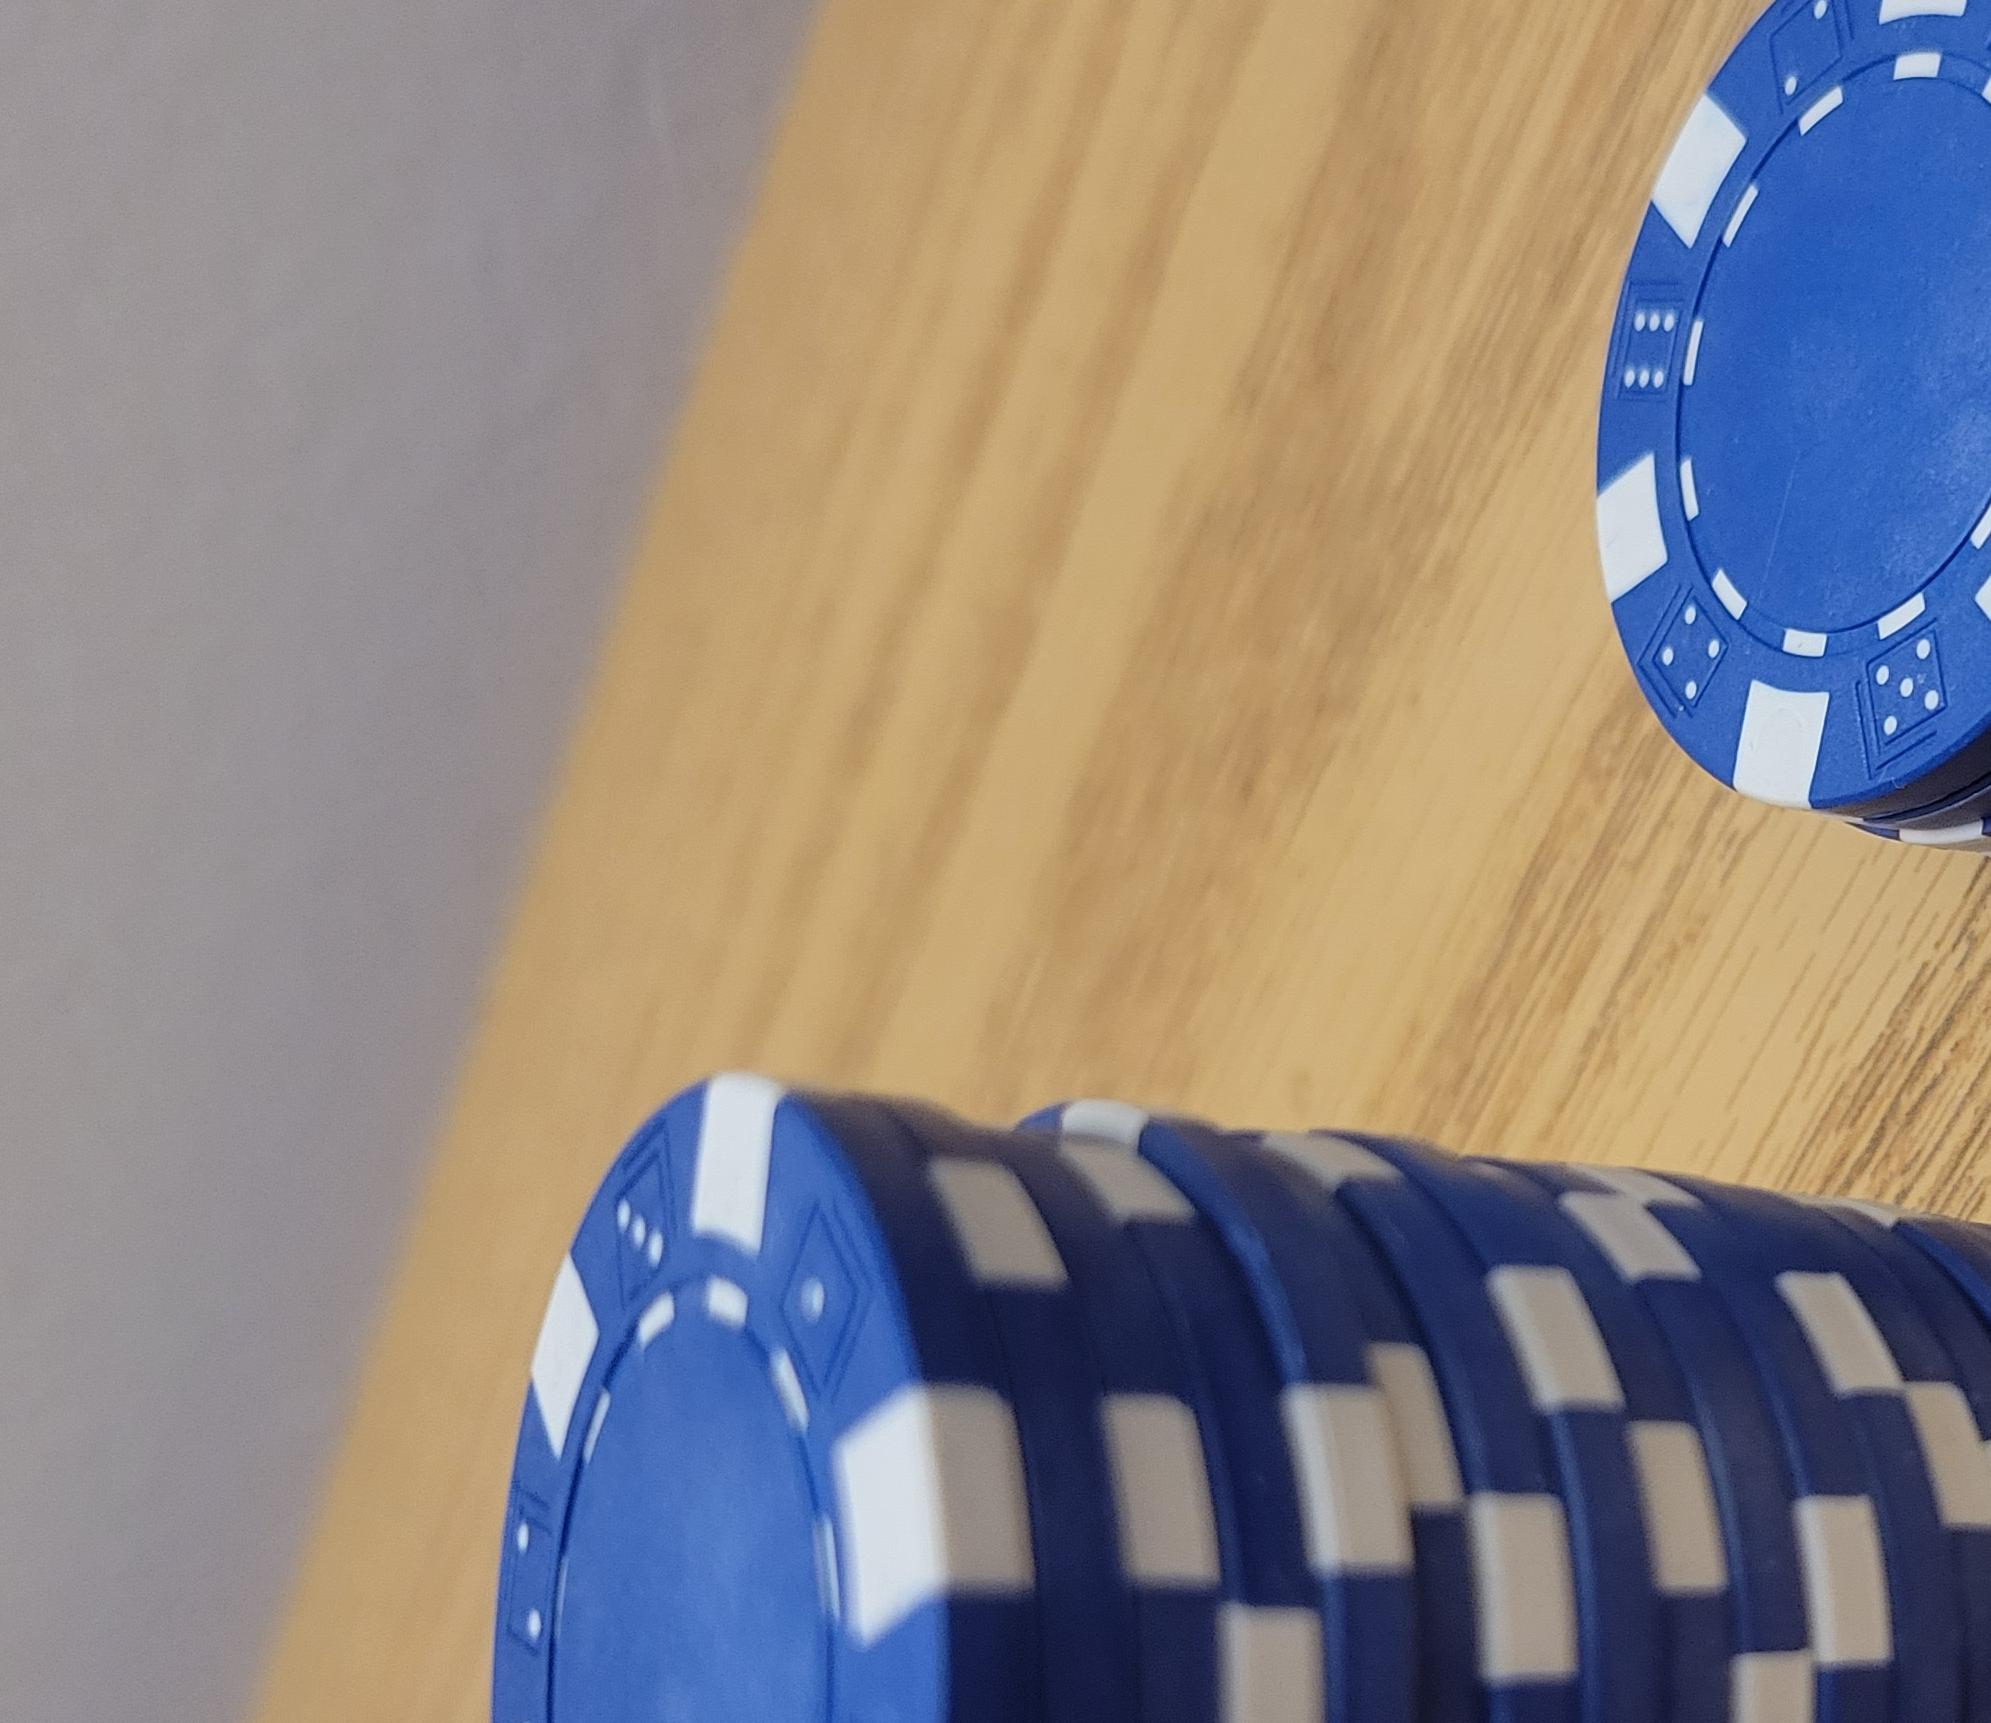Chip: (2, 134, 1431, 1723)
